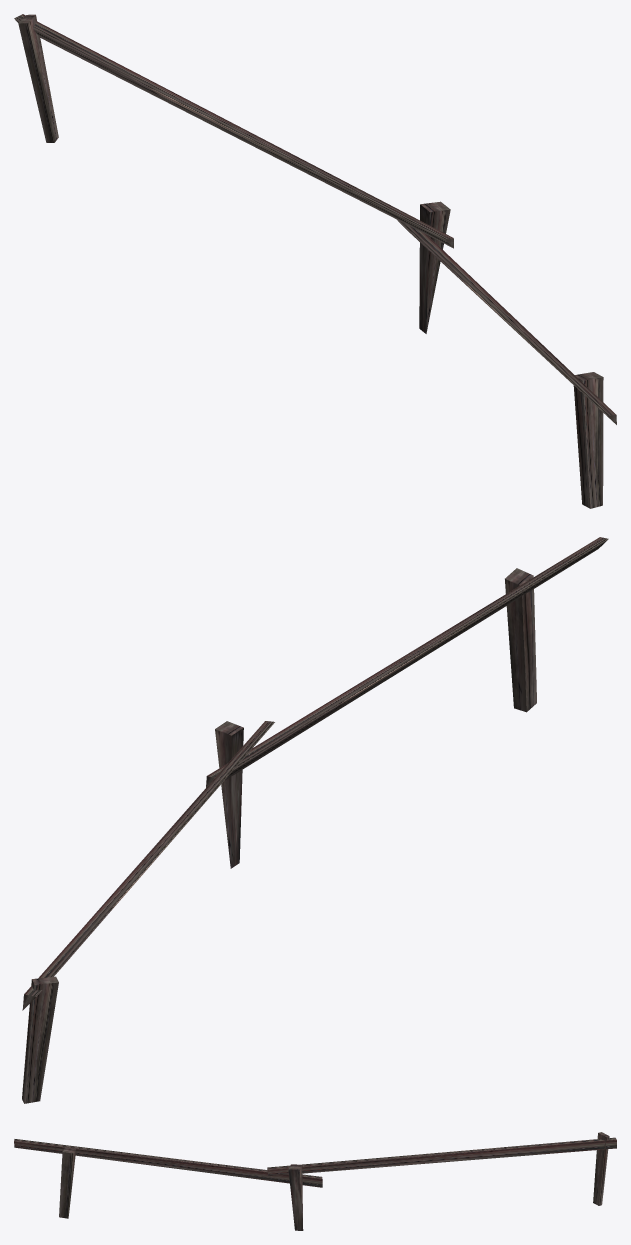
File: pir_m_prp_swm_rail_big.fbx
3 views of the same model, one above another, from view 1: azimuth 30°, elevation 25°; view 2: azimuth 150°, elevation 25°; view 3: azimuth 270°, elevation 25° (orthographic). The views are drawn at different scales.
Visible parts, largest first — view 1: balconypost161, balconypost165, balconypost162, balconypost164, balconypost166; view 2: balconypost162, balconypost161, balconypost165, balconypost164, balconypost166; view 3: balconypost161, balconypost162, balconypost165, balconypost166, balconypost164.
Boxes of the visible parts, x1,y1,x2,y2 form: balconypost161: (14,14,453,248); balconypost165: (573,372,603,508); balconypost162: (397,220,616,424); balconypost164: (18,14,58,142); balconypost166: (419,201,450,333); balconypost162: (206,537,608,787); balconypost161: (22,721,274,1010); balconypost165: (505,568,536,712); balconypost164: (22,976,58,1103); balconypost166: (215,721,243,868); balconypost161: (267,1137,616,1176); balconypost162: (14,1139,322,1187); balconypost165: (59,1147,75,1218); balconypost166: (288,1164,303,1230); balconypost164: (593,1132,609,1205).
Size of the model in its own units: 624 by 573 by 4455.
Materials: 1 (1 with a texture image).
